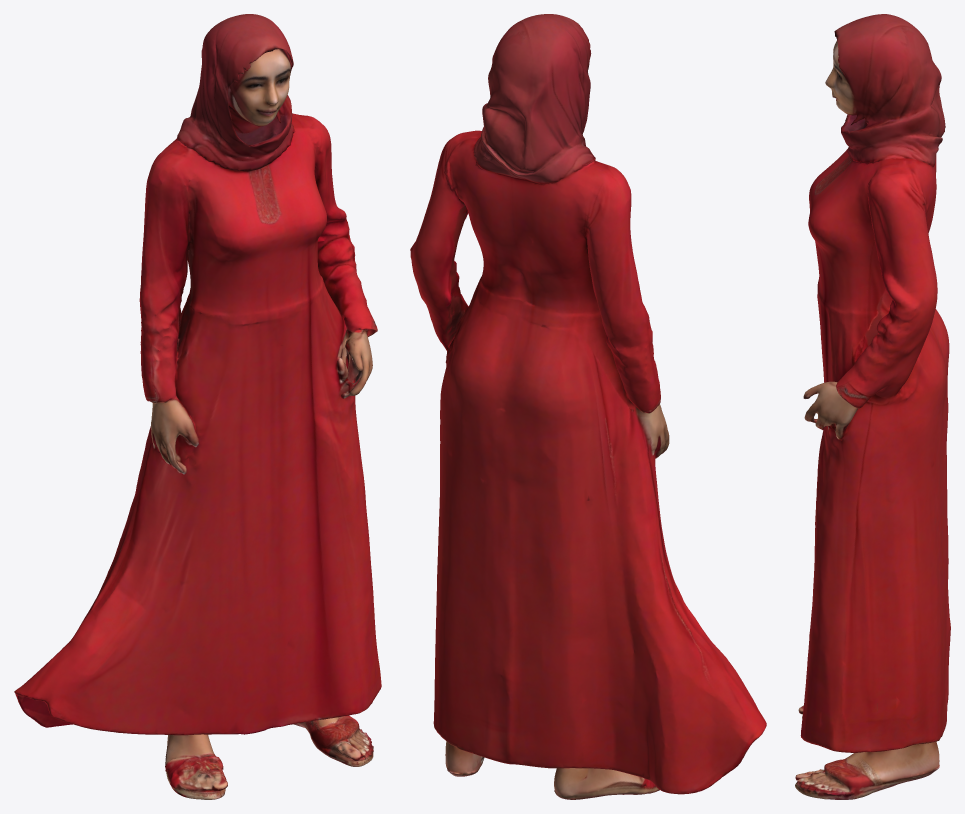
File: arab_female_with_abaya.glb
3 views of the same model, side by side, from view 1: azimuth 30°, elevation 25°; view 2: azimuth 150°, elevation 25°; view 3: azimuth 270°, elevation 25° (orthographic). The views are drawn at different scales.
Parts seen in each view (by area): view 1: Object_4, Object_5; view 2: Object_4, Object_5; view 3: Object_4, Object_5.
Boxes of the visible parts, <box> form: Object_4: <box>14,14,381,799</box>; Object_5: <box>15,16,377,793</box>; Object_4: <box>410,14,766,799</box>; Object_5: <box>410,16,765,799</box>; Object_4: <box>795,14,950,799</box>; Object_5: <box>796,14,949,798</box>.
Size of the model in its own units: 0.9476 by 2 by 0.3825.
Materials: 1 (1 with a texture image).
